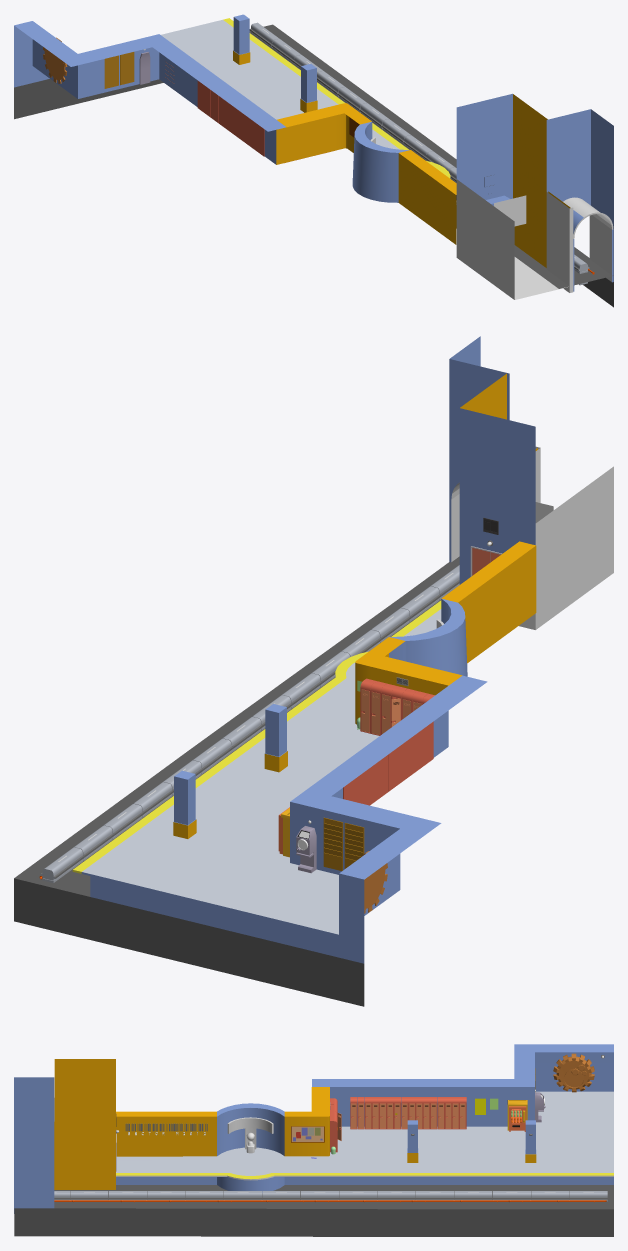
The model's file is onboardversion (1).fbx.
The picture shows the model from 3 angles, top to bottom: view 1: azimuth 30°, elevation 25°; view 2: azimuth 150°, elevation 25°; view 3: azimuth 270°, elevation 25°; orthographic projection. The views are drawn at different scales.
Parts seen in each view (by area): view 1: Cube.002, Cube.006, Cube.009, Cylinder.002, punchcard holder 1, punchcard holder 1.001; view 2: Cube.002, Cube.006, Cube.009, Cube.008, punchcard holder 1.001; view 3: Cube.002, Cube.006, Cube.009, Cylinder.002, Cylinder.001, decoration, Text.001, Cube.005, Cube.008, Billboard.
Part boxes in pixels (bbox=[...]): Cube.002: bbox=[14, 14, 613, 307]; Cube.006: bbox=[249, 22, 589, 285]; Cube.009: bbox=[197, 80, 264, 156]; Cylinder.002: bbox=[43, 37, 67, 83]; punchcard holder 1: bbox=[104, 55, 118, 88]; punchcard holder 1.001: bbox=[120, 52, 134, 85]; Cube.002: bbox=[14, 336, 613, 1006]; Cube.006: bbox=[40, 565, 459, 882]; Cube.009: bbox=[343, 721, 433, 805]; Cube.008: bbox=[360, 678, 434, 735]; punchcard holder 1.001: bbox=[323, 817, 343, 870]; Cube.002: bbox=[14, 1044, 613, 1236]; Cube.006: bbox=[54, 1191, 607, 1201]; Cube.009: bbox=[350, 1097, 466, 1129]; Cylinder.002: bbox=[553, 1053, 594, 1092]; Cylinder.001: bbox=[54, 1200, 606, 1202]; decoration: bbox=[227, 1117, 273, 1149]; Text.001: bbox=[125, 1123, 207, 1135]; Cube.005: bbox=[507, 1100, 527, 1131]; Cube.008: bbox=[330, 1098, 341, 1152]; Billboard: bbox=[291, 1126, 324, 1142].
Size of the model in its own units: 1197 by 803 by 2746.
